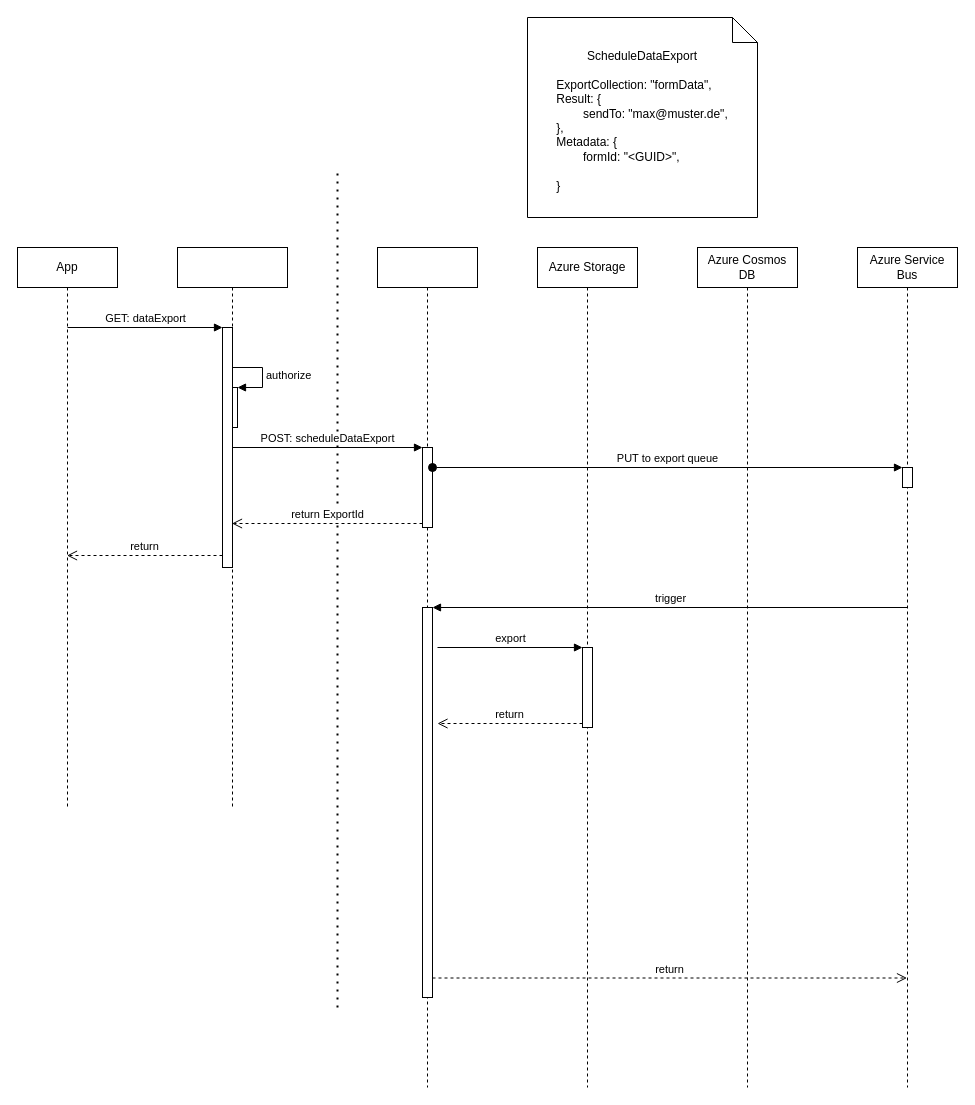
This 975x1105 diagram has some shape labels left out. The box of each missing label's shape, as (x1, y1, x2, y2) in pixels:
API Gateway: (176, 246, 288, 808)
Data Exporter: (376, 246, 478, 1088)
